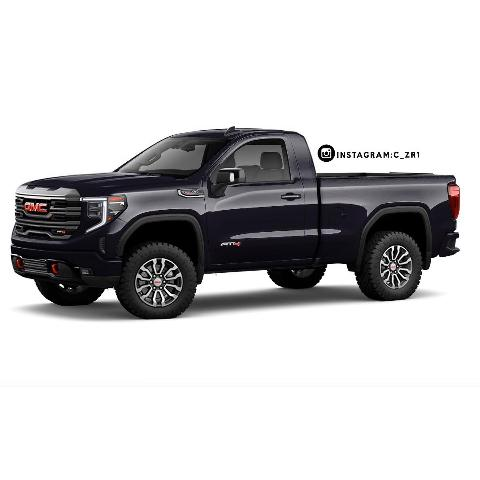pickup-truck: (11, 126, 461, 321)
